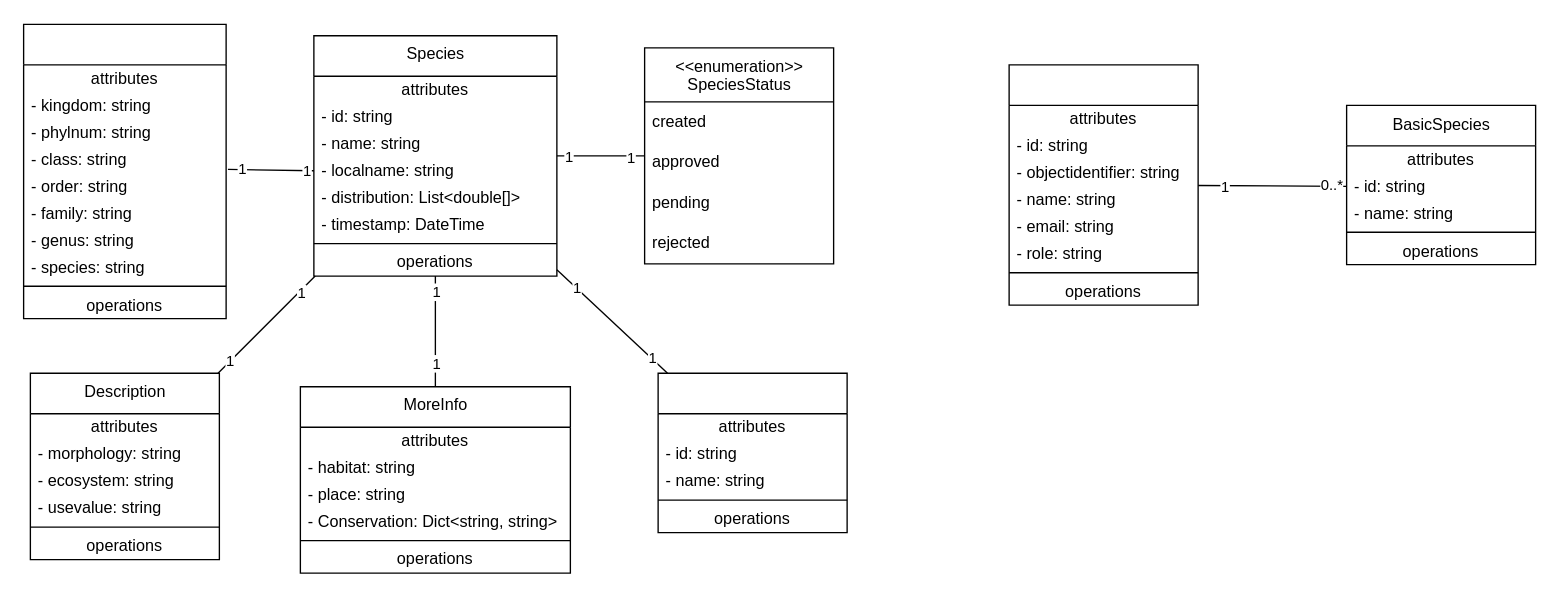
The diagram is 1559 pixels wide and 597 high, and some of its shapes have lost their labels. Each missing label, with the box of its shape:
BasicUser: (657, 372, 847, 533)
Taxonomy: (22, 23, 226, 319)
User: (1008, 63, 1198, 305)
